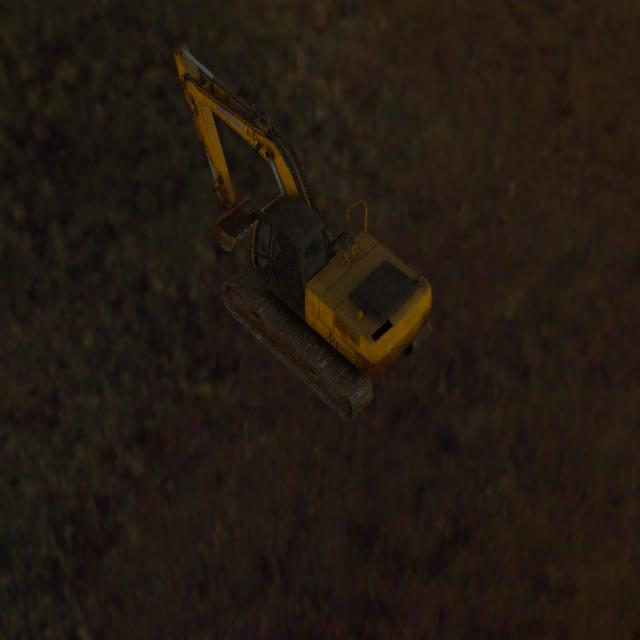excavator: (173, 40, 432, 423)
